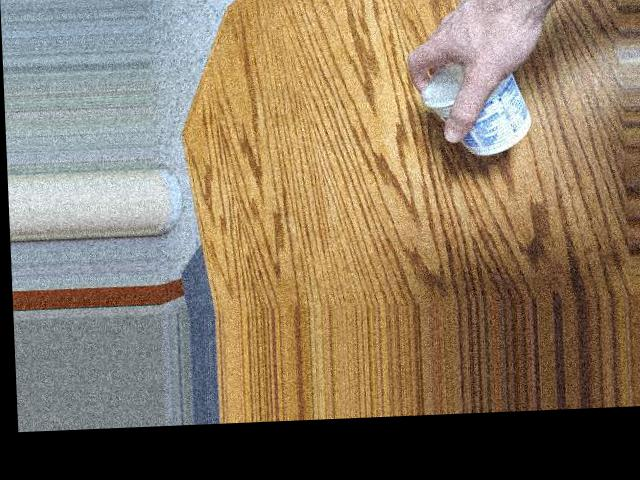cotage: (420, 42, 544, 148)
